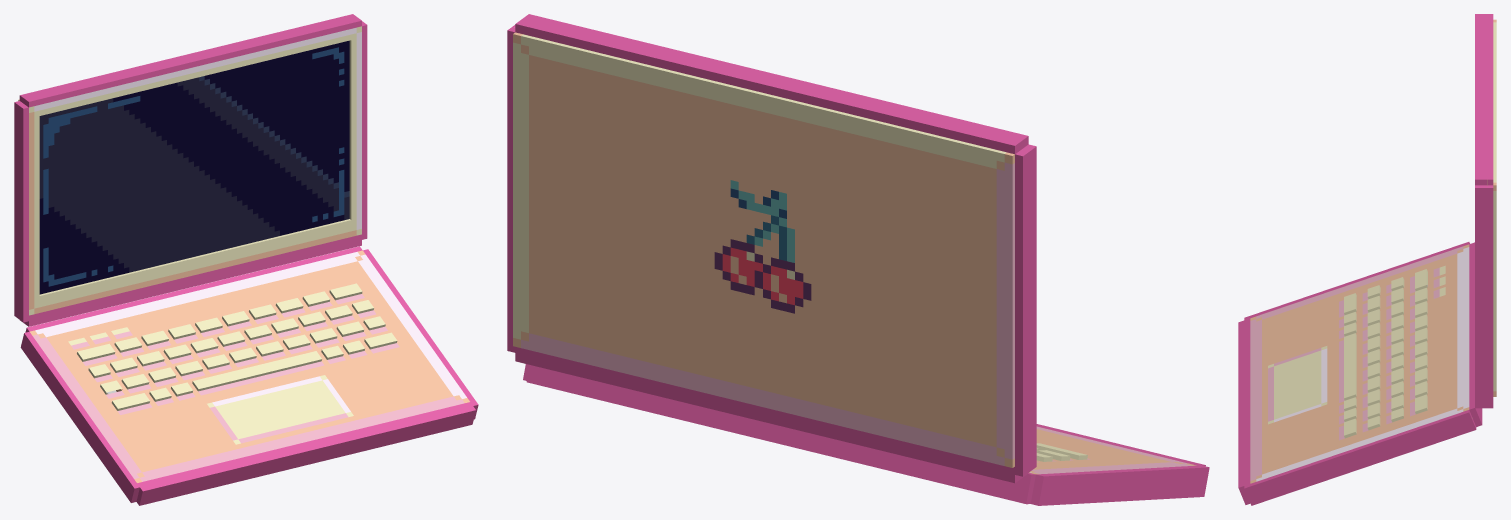
File: joslaptop.glb
3 renders of one model, left to right at view 1: azimuth 30°, elevation 25°; view 2: azimuth 150°, elevation 25°; view 3: azimuth 270°, elevation 25°, orthographic. The views are drawn at different scales.
Visible parts, largest first — view 1: laptop; view 2: laptop; view 3: laptop.
Boxes of the visible parts, box(x1,y1,x2,y2) form: laptop: box(14, 14, 478, 505); laptop: box(507, 14, 1209, 505); laptop: box(1238, 14, 1496, 505).
Bounding box in the file's own units: 8.77 × 7.78 × 5.57.
1 material, 1 textured.
